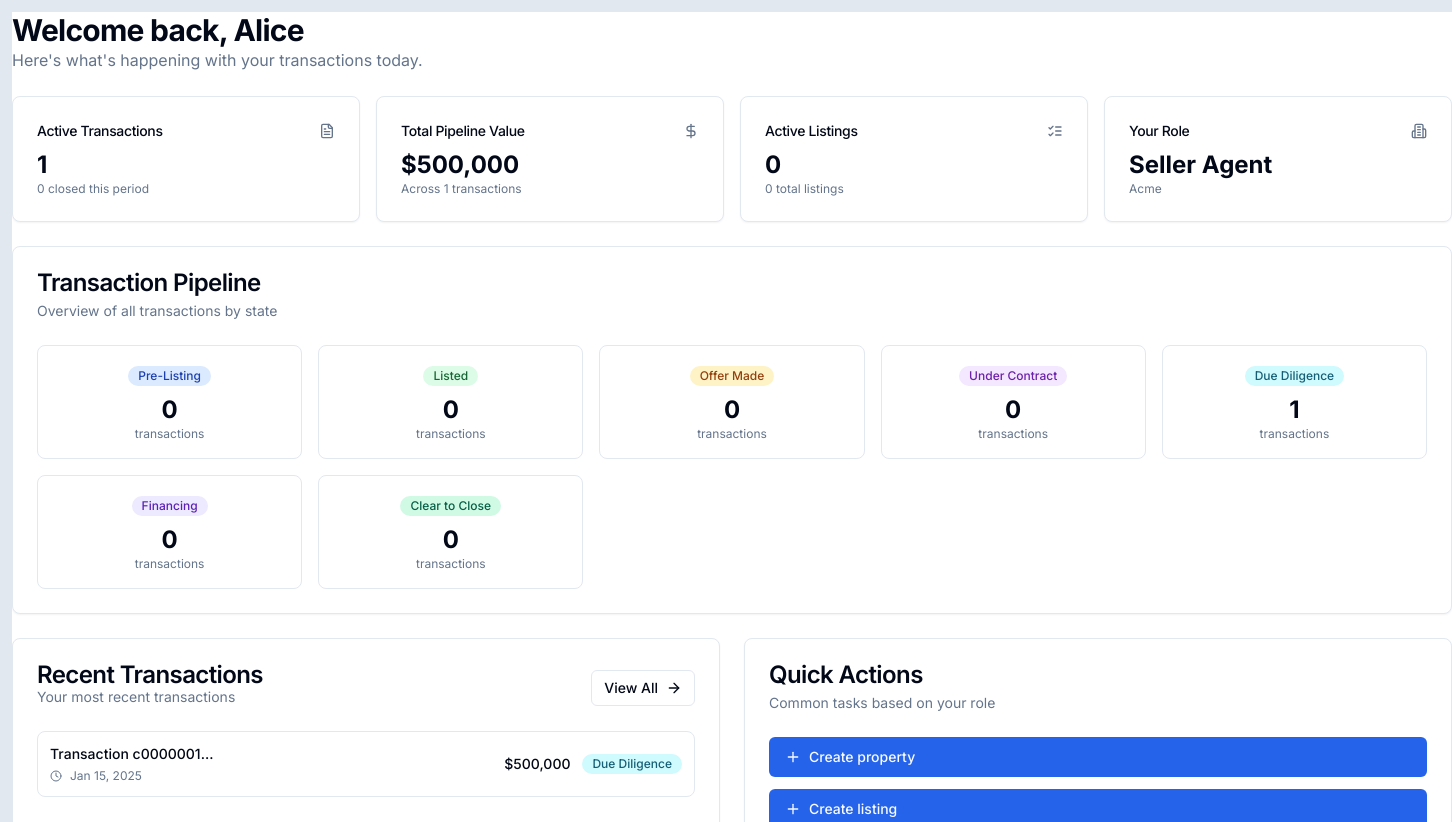
Test: DashboardPage (Phase B.1 B.2) › View All link includes state param when pipeline state is selected
The width and height of the screenshot is (1452, 822).
Click the button "Due Diligence 1 transactions": coordinates (1294, 402) [1162, 345, 1427, 459]
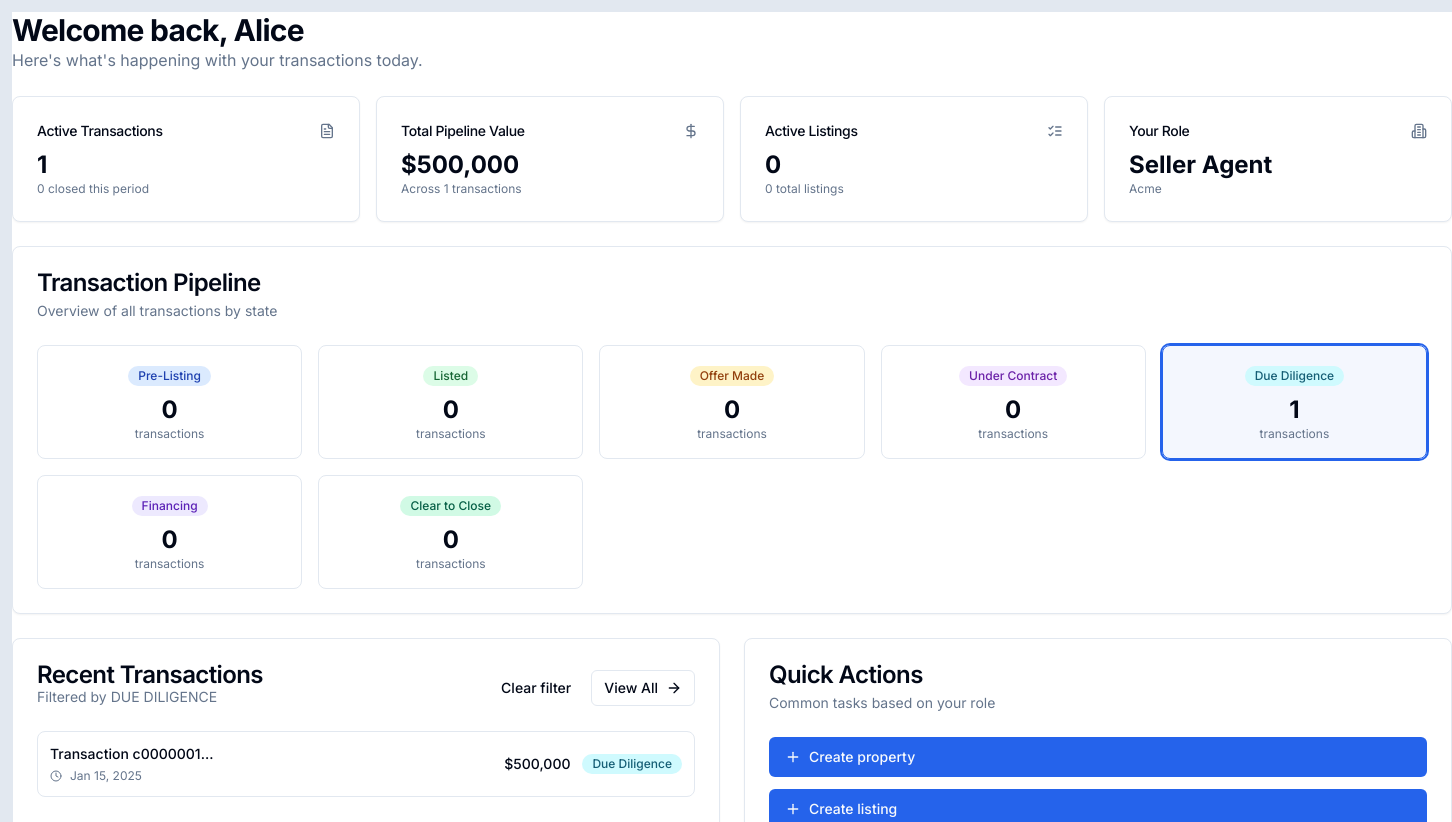
Expected: the button "Clear filter" is shown, [489, 670, 583, 706]
